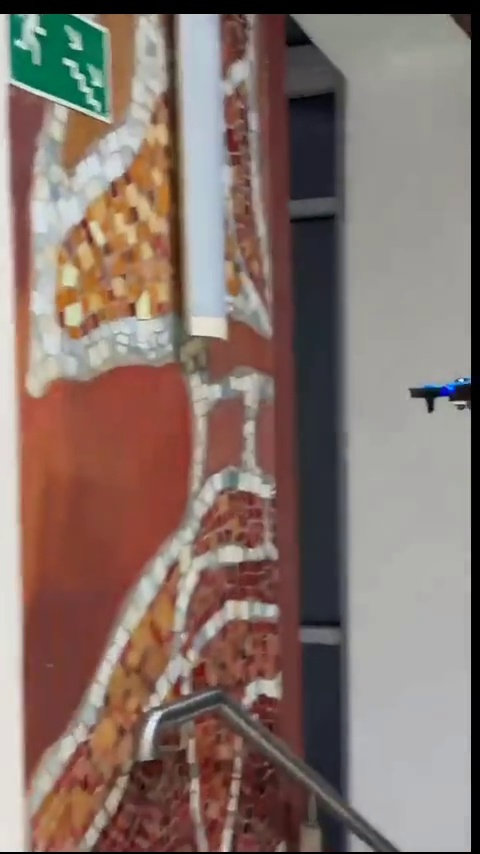drone: (396, 378, 480, 411)
